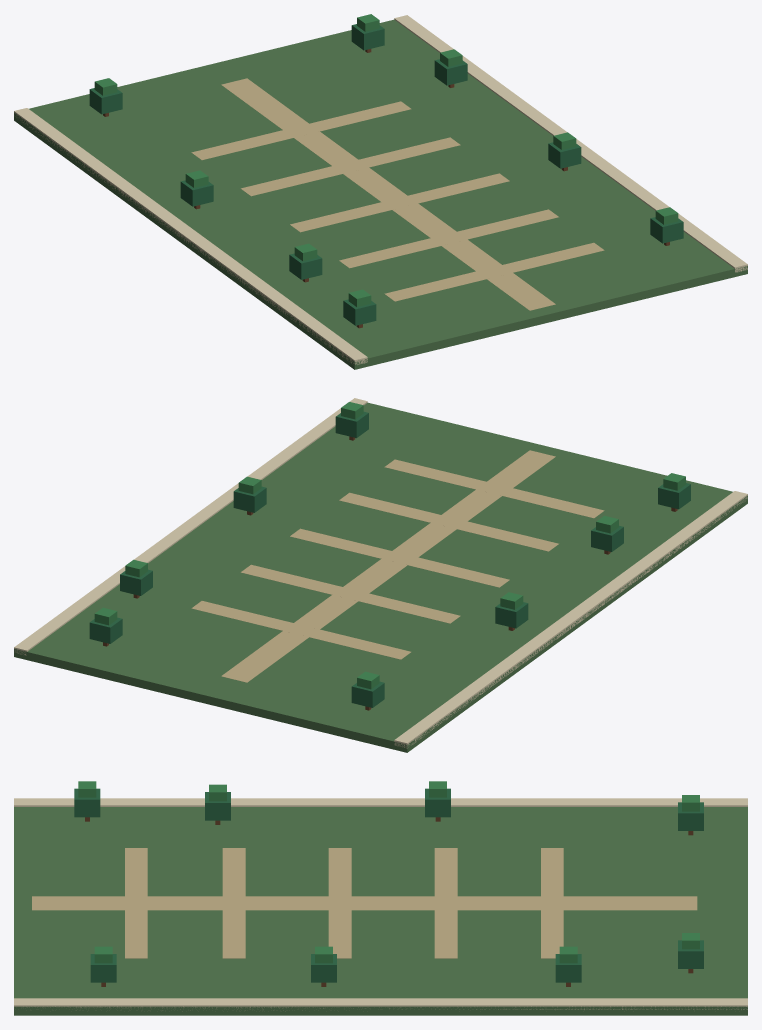
Rendered from crown_road_landscape.glb.
The picture shows the model from 3 angles, top to bottom: view 1: azimuth 30°, elevation 25°; view 2: azimuth 150°, elevation 25°; view 3: azimuth 270°, elevation 25°; orthographic projection. The views are drawn at different scales.
Visible parts, largest first — view 1: crown_road_landscape; view 2: crown_road_landscape; view 3: crown_road_landscape.
Boxes of the visible parts, x1,y1,x2,y2 form: crown_road_landscape: (14,14,747,369); crown_road_landscape: (14,398,747,752); crown_road_landscape: (14,781,747,1015).
Size of the model in its own units: 300 by 30 by 450.
